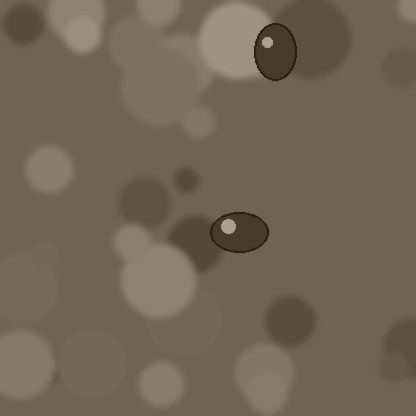gota: (254, 25, 296, 85), (210, 214, 268, 256)
